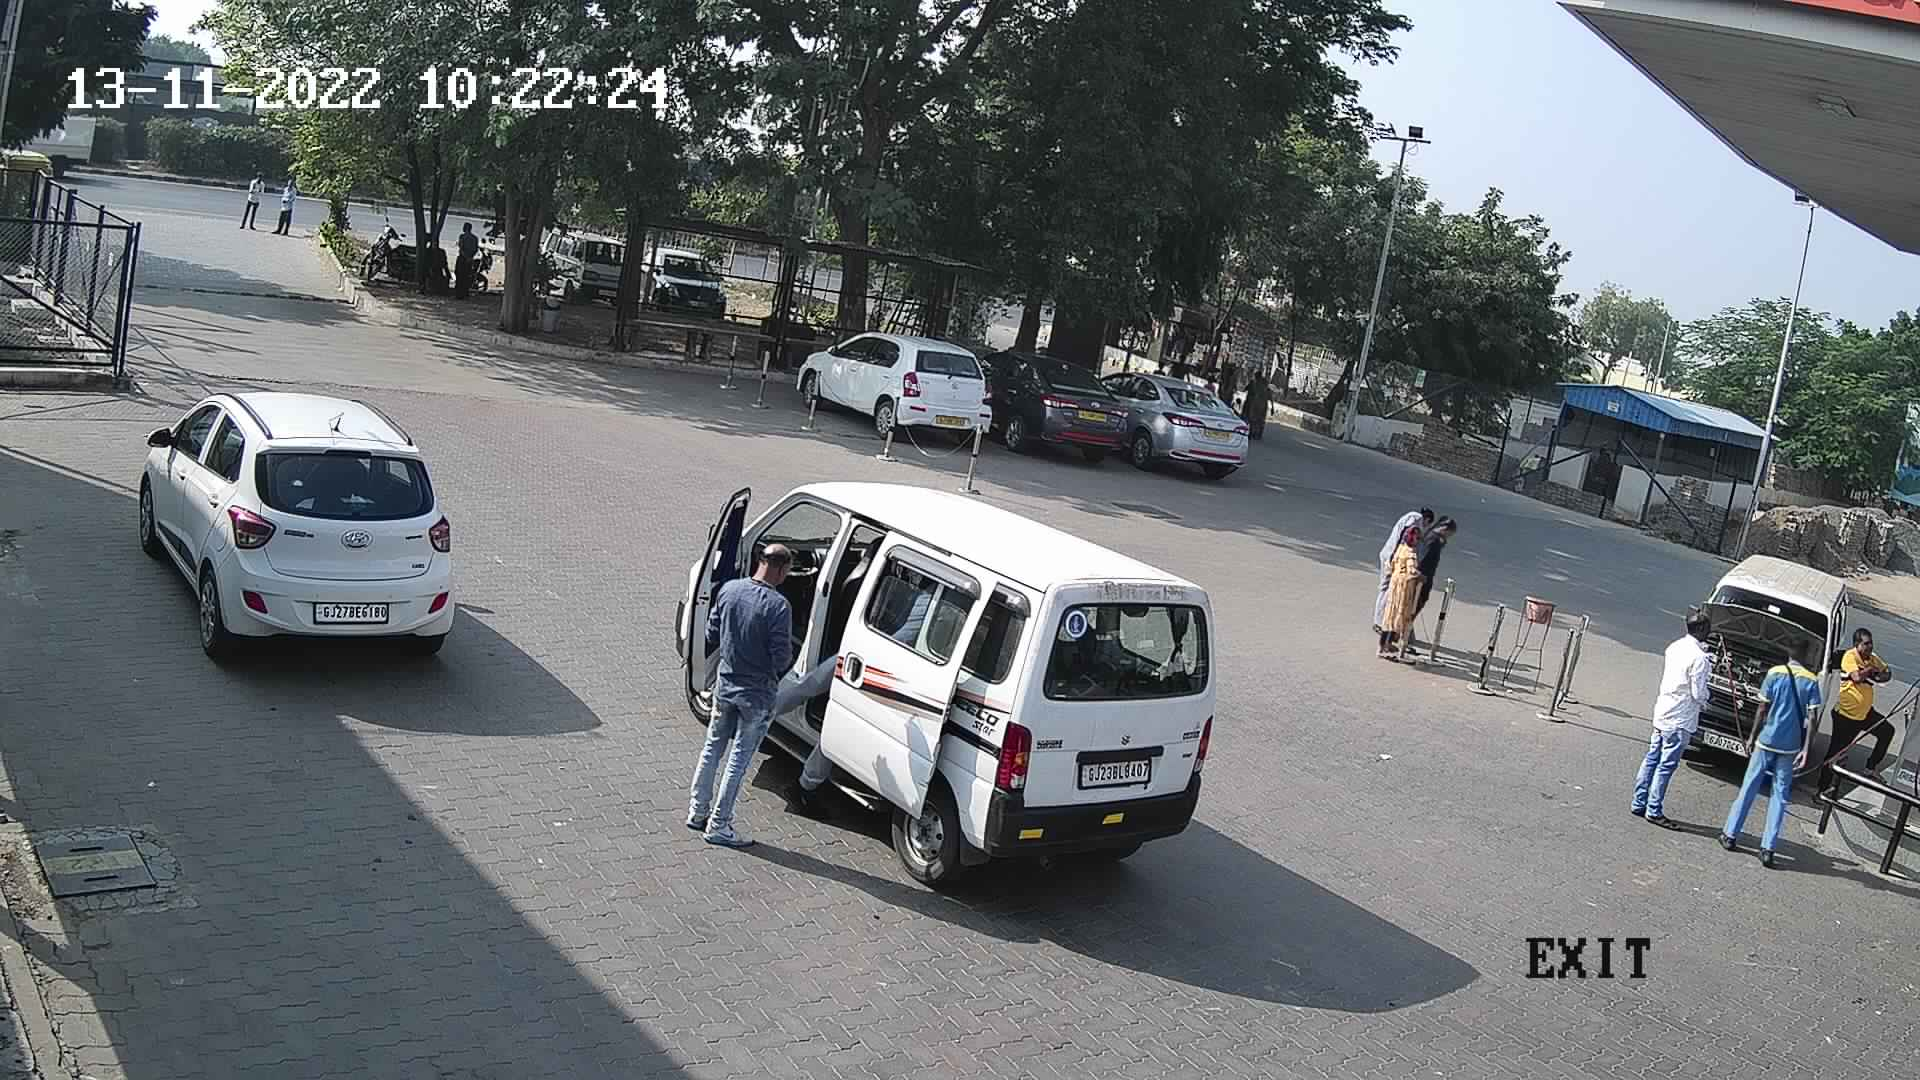Auto: (4, 135, 61, 253)
Bike: (345, 210, 418, 295), (447, 225, 501, 299)
Car: (667, 473, 1226, 893), (120, 373, 481, 662), (1663, 549, 1866, 800), (789, 320, 1004, 455), (971, 340, 1141, 473), (1089, 365, 1262, 488), (531, 214, 633, 311), (632, 236, 735, 324), (15, 95, 105, 187)
Others: (1700, 624, 1821, 872)
